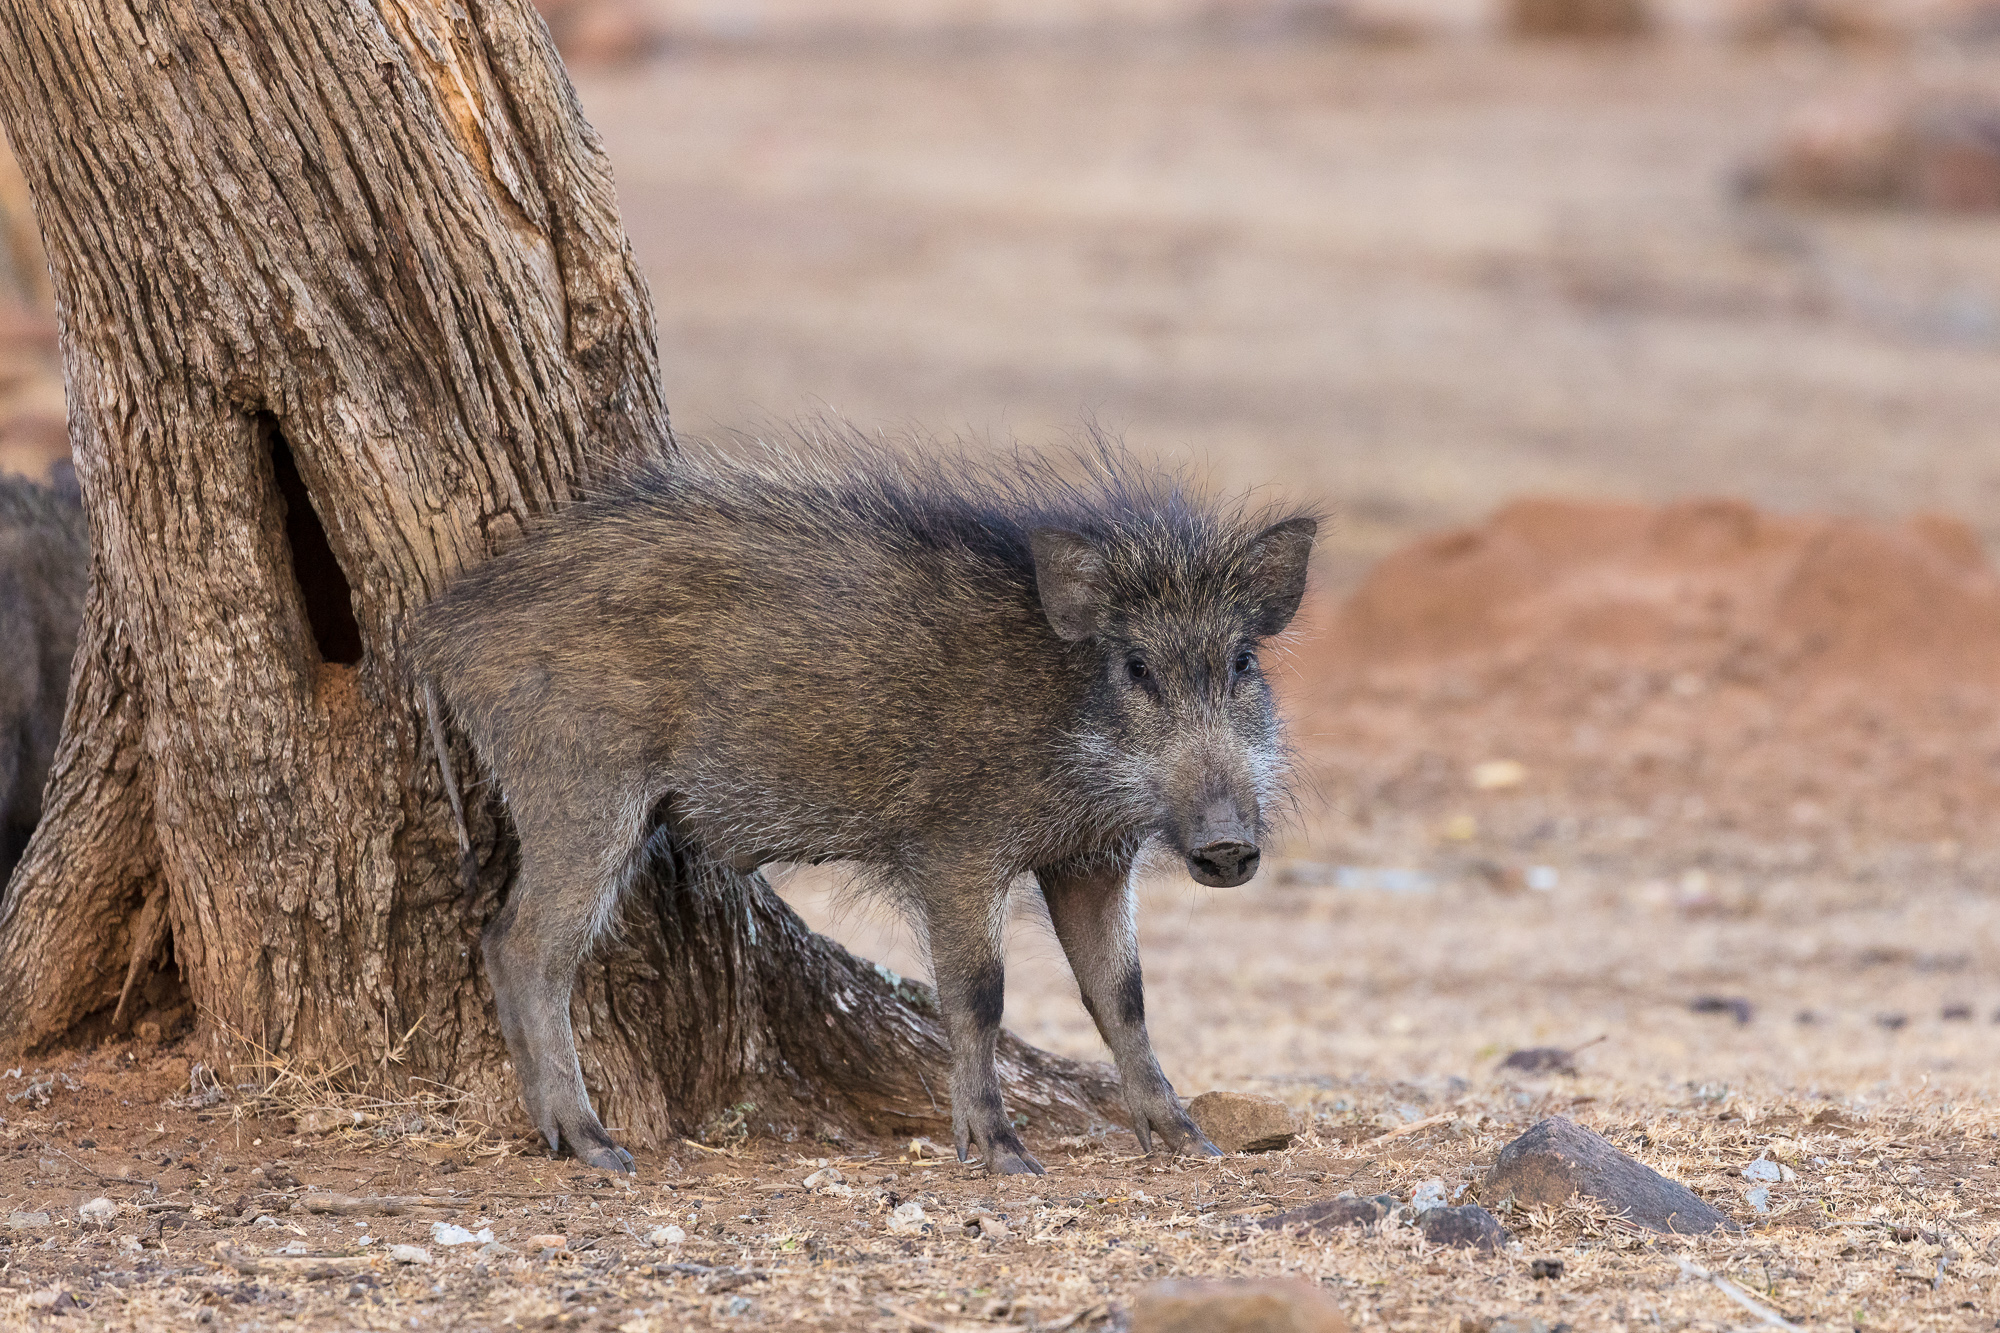wild boar: (379, 425, 1338, 1215)
